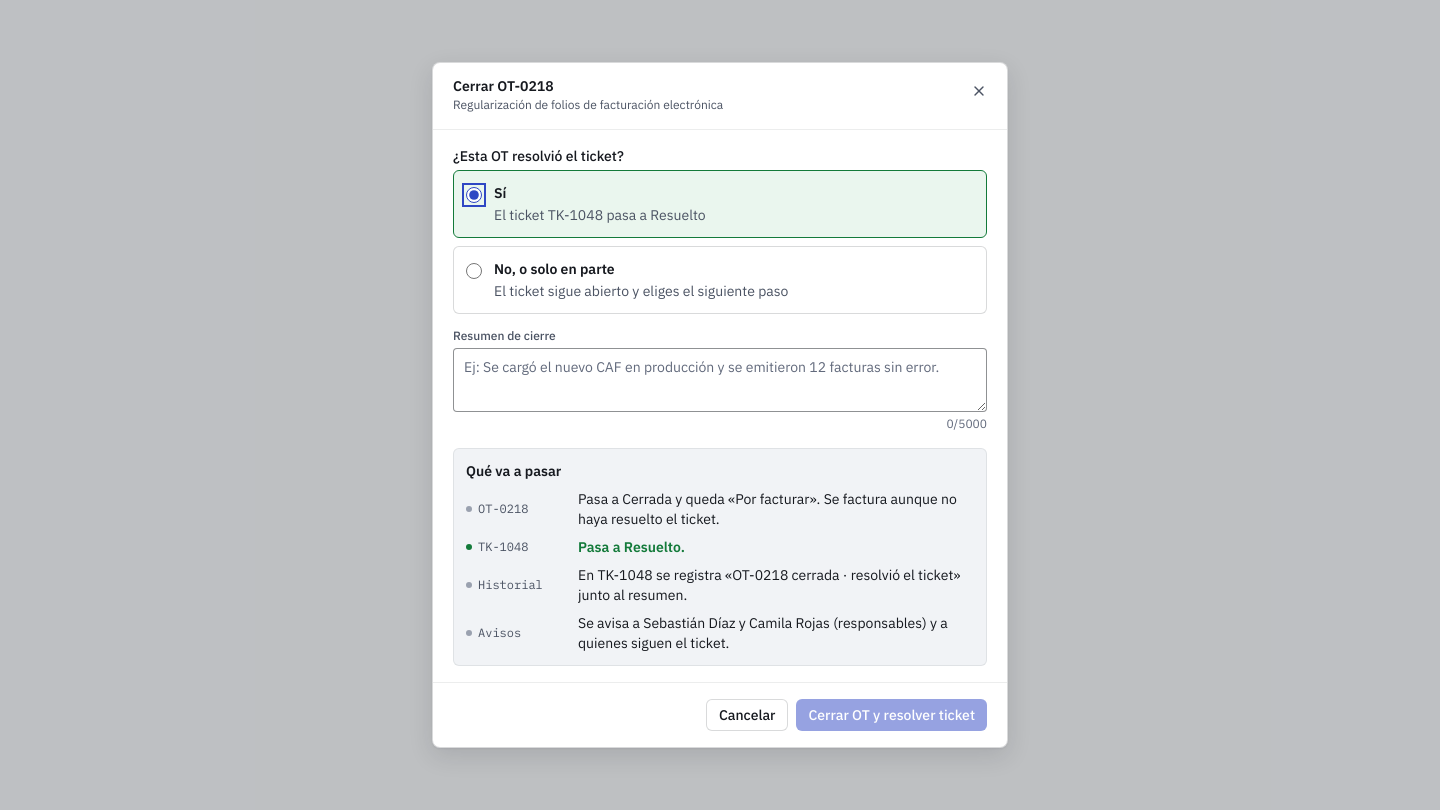
Test: "No" con nueva OT envía el responsable y avisa la OT creada
This screenshot has width=1440, height=810.
Step 1. Click the radio button labelled "No, o solo en parte" → [474, 271], box [466,263,482,279]
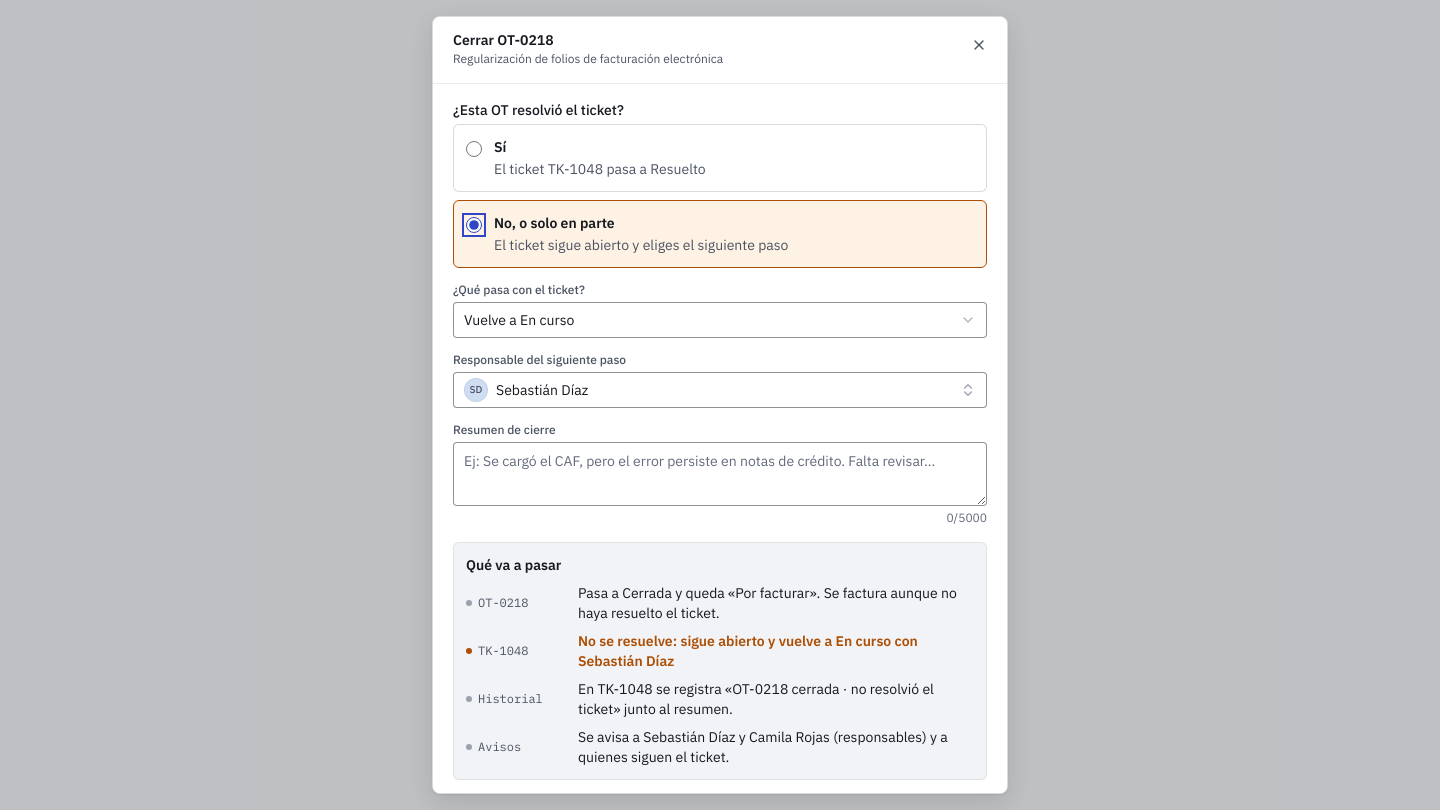
Step 2. Click the dropdown named "¿Qué pasa con el ticket?" → [519, 320], box [453,302,987,338]
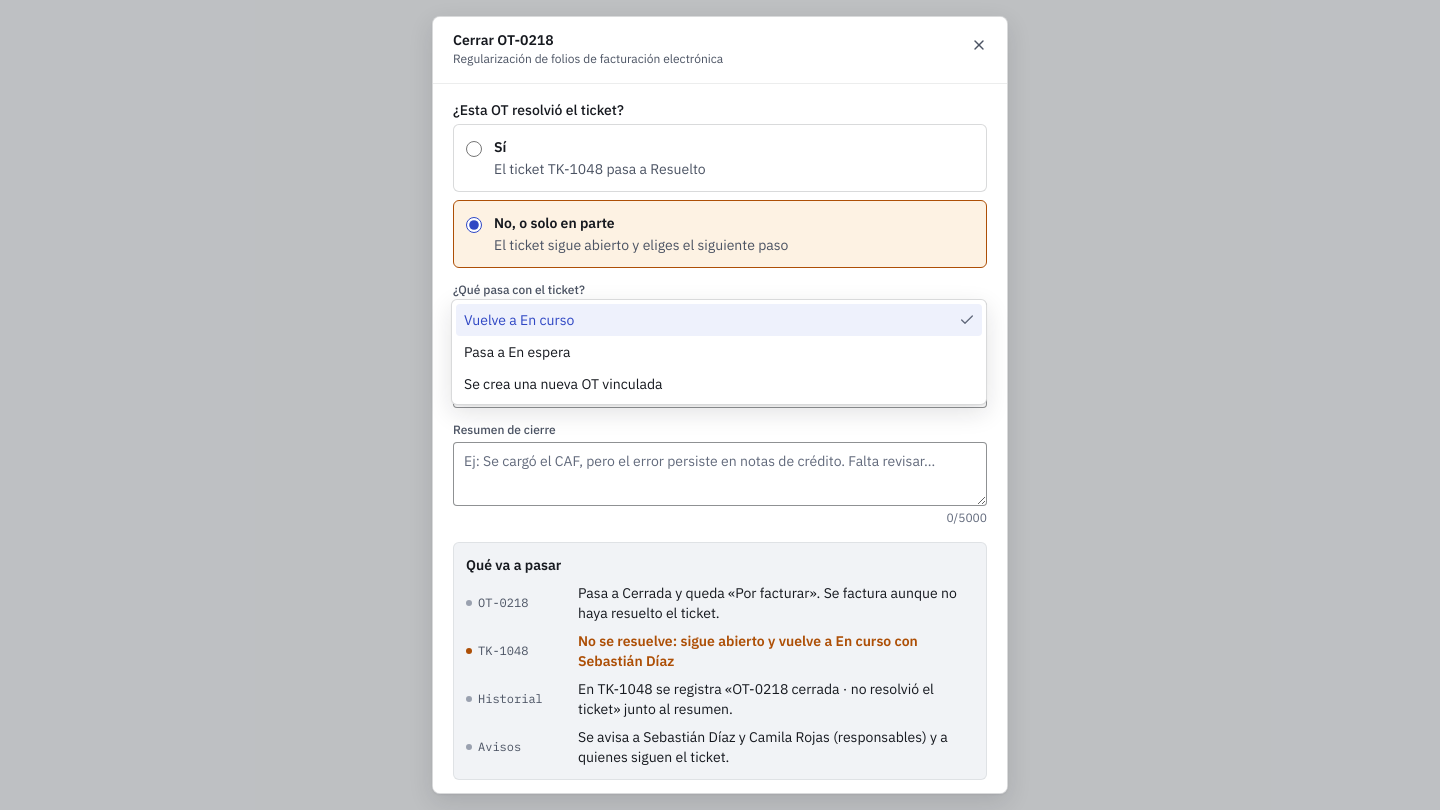
Step 3. Click the option "Se crea una nueva OT vinculada" → [563, 384], box [464,375,663,393]
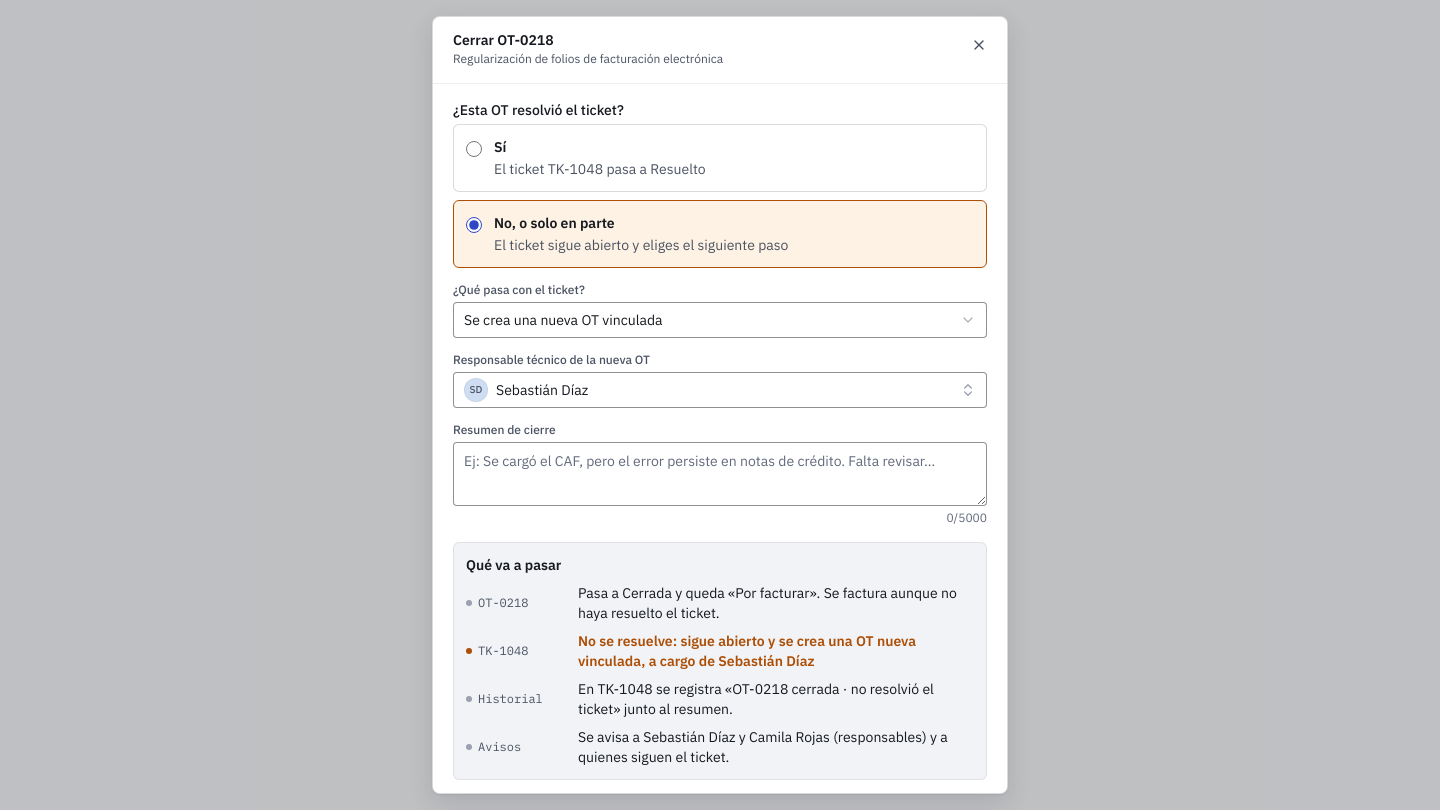
Step 4. Type "Falta capacitación" into the text box labelled "Resumen de cierre" → [720, 474], box [453,442,987,506]
(page scrolled)
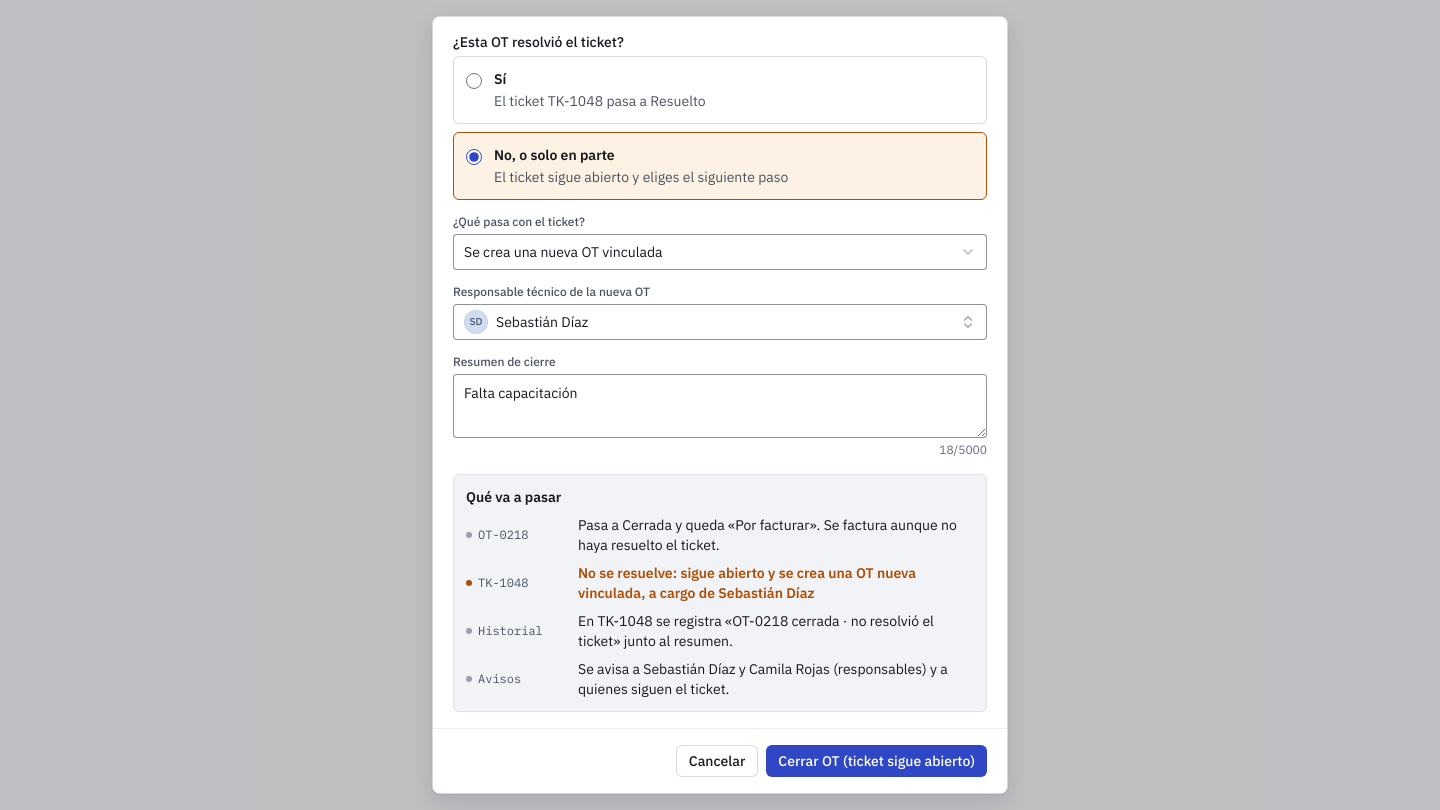
Step 5. Click the button "Cerrar OT (ticket sigue abierto)" → [877, 761], box [766,745,987,777]
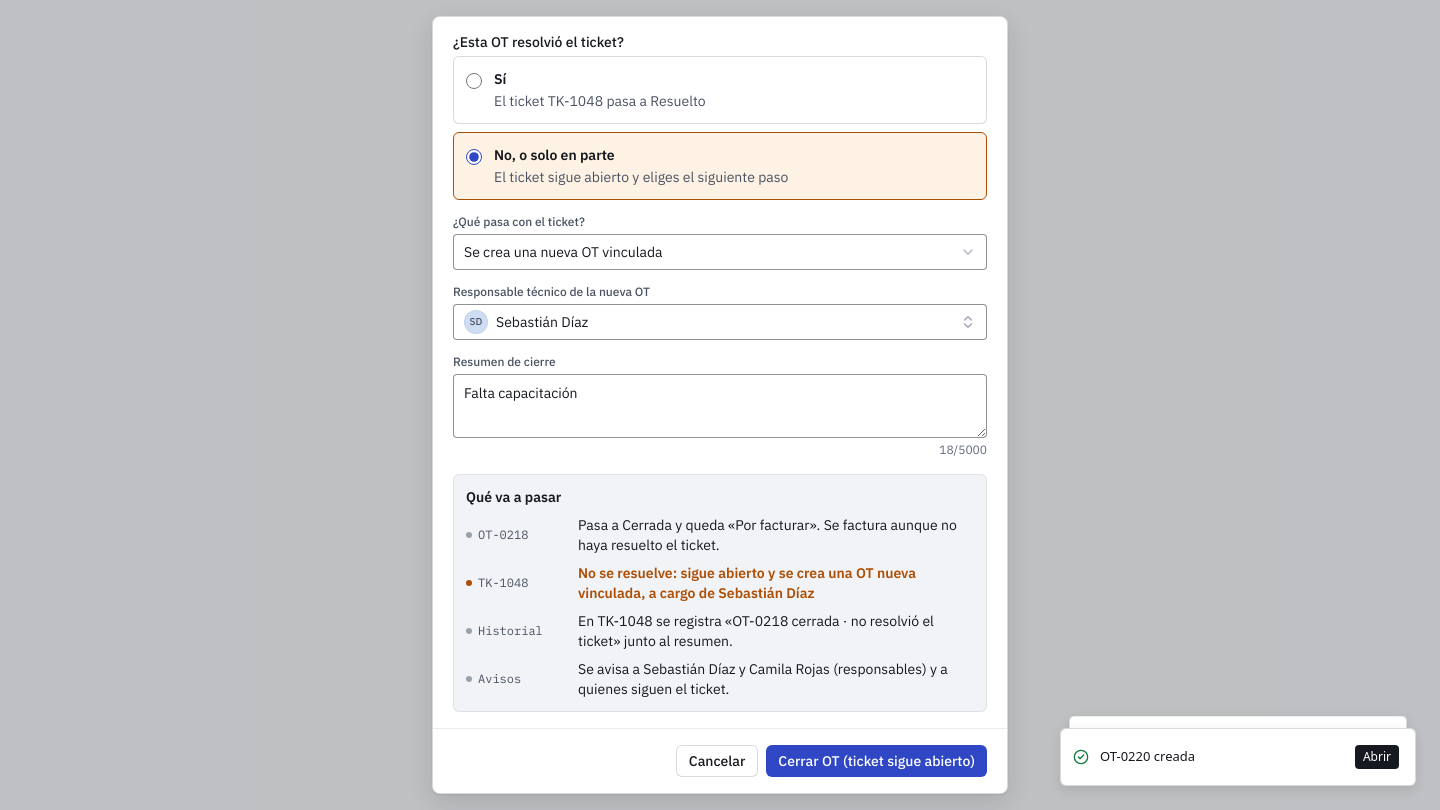
Result: the text "OT-0220 creada" is shown at [1100,747,1195,767]
